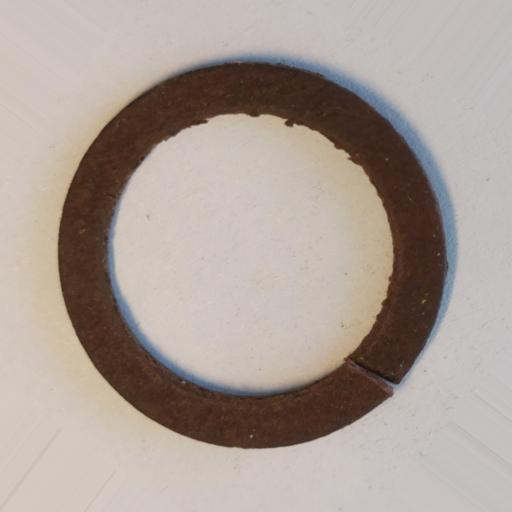defect: (340, 354, 397, 398)
